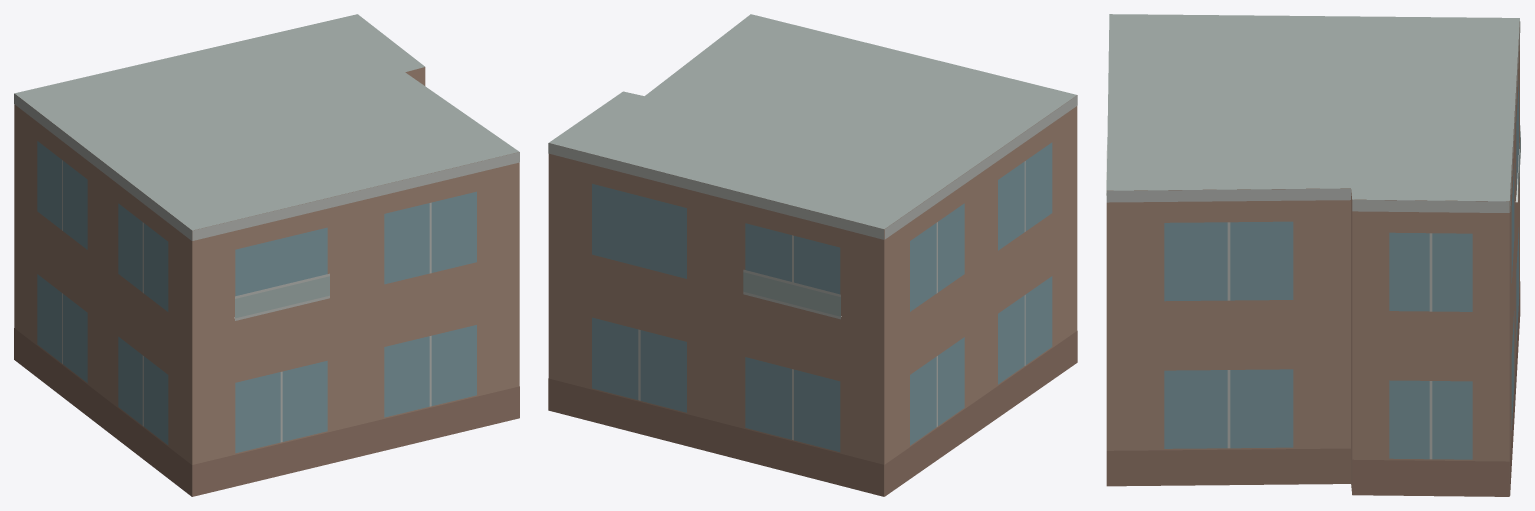
The model's file is survey-upis-32766040.glb.
3 views of the same model, side by side, from view 1: azimuth 30°, elevation 25°; view 2: azimuth 150°, elevation 25°; view 3: azimuth 270°, elevation 25° (orthographic). The views are drawn at different scales.
Parts seen in each view (by area): view 1: survey-upis-32766040.tmp; view 2: survey-upis-32766040.tmp; view 3: survey-upis-32766040.tmp.
Boxes of the visible parts, x1,y1,x2,y2 form: survey-upis-32766040.tmp: (14,14,519,496); survey-upis-32766040.tmp: (548,14,1077,496); survey-upis-32766040.tmp: (1106,14,1520,496).
Size of the model in its own units: 8.3 by 6.1 by 7.76.
